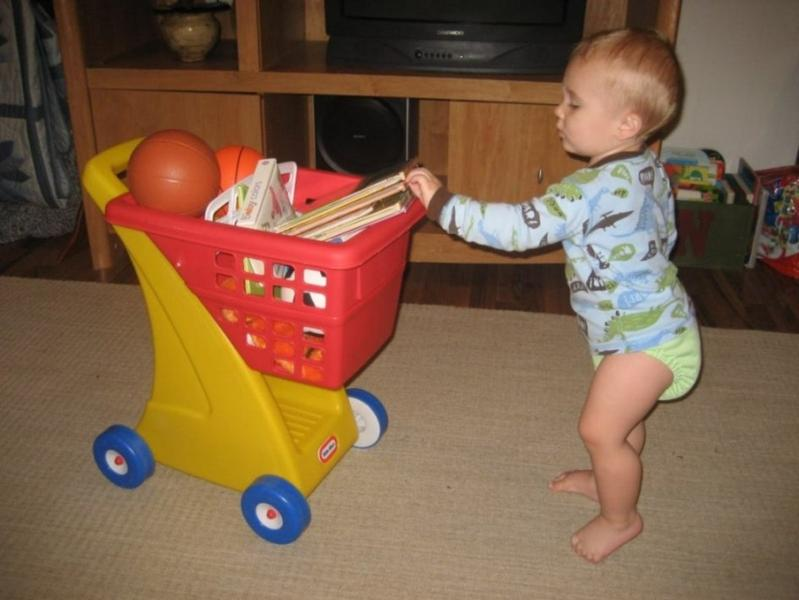person: (405, 26, 702, 564)
